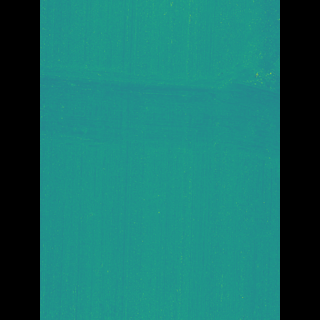Loch: (68, 55, 250, 166)
